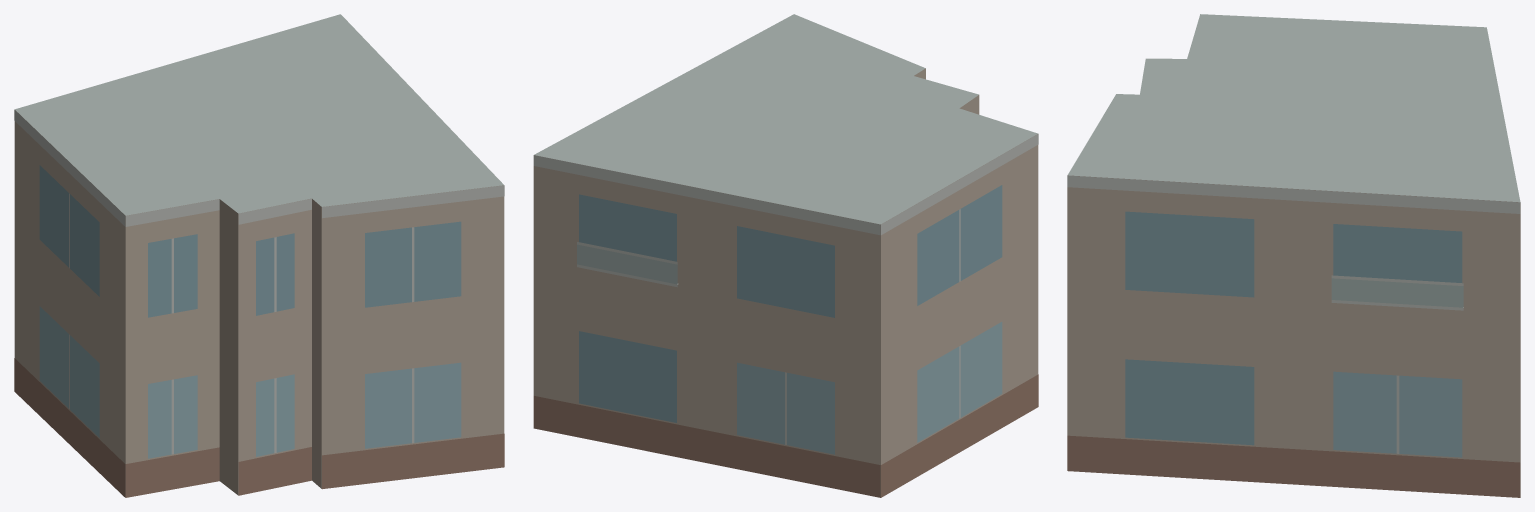
Rendered from survey-upis-32465059.glb.
3 renders of one model, left to right at view 1: azimuth 30°, elevation 25°; view 2: azimuth 150°, elevation 25°; view 3: azimuth 270°, elevation 25°, orthographic. The views are drawn at different scales.
Parts seen in each view (by area): view 1: survey-upis-32465059.tmp; view 2: survey-upis-32465059.tmp; view 3: survey-upis-32465059.tmp.
Part boxes in pixels (x1=…): survey-upis-32465059.tmp: x1=14, y1=14, x2=504, y2=497; survey-upis-32465059.tmp: x1=533, y1=14, x2=1038, y2=497; survey-upis-32465059.tmp: x1=1067, y1=14, x2=1520, y2=497.
Bounding box in the file's own units: 8.34 × 6.1 × 8.49.
